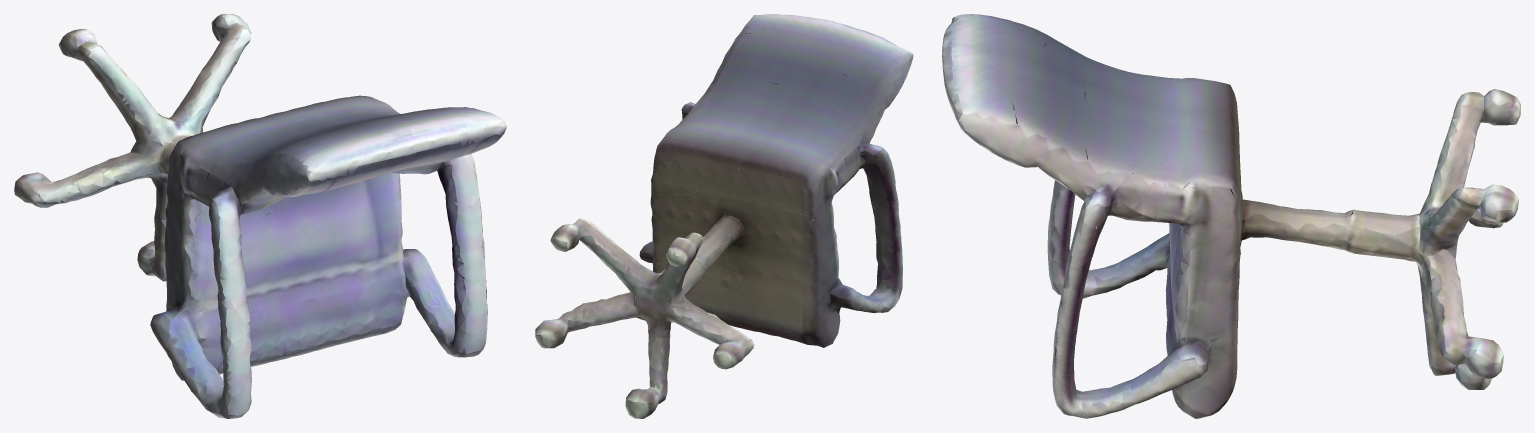
Rendered from spar3d.glb.
3 renders of one model, left to right at view 1: azimuth 30°, elevation 25°; view 2: azimuth 150°, elevation 25°; view 3: azimuth 270°, elevation 25°, orthographic. The views are drawn at different scales.
Visible parts, largest first — view 1: world; view 2: world; view 3: world.
Part boxes in pixels (x1,y1,x2,y2): world: [14, 14, 506, 418]; world: [535, 14, 913, 418]; world: [942, 14, 1520, 418].
Bounding box in the file's own units: 0.4996 × 0.5676 × 0.8844.
1 material, 1 textured.
